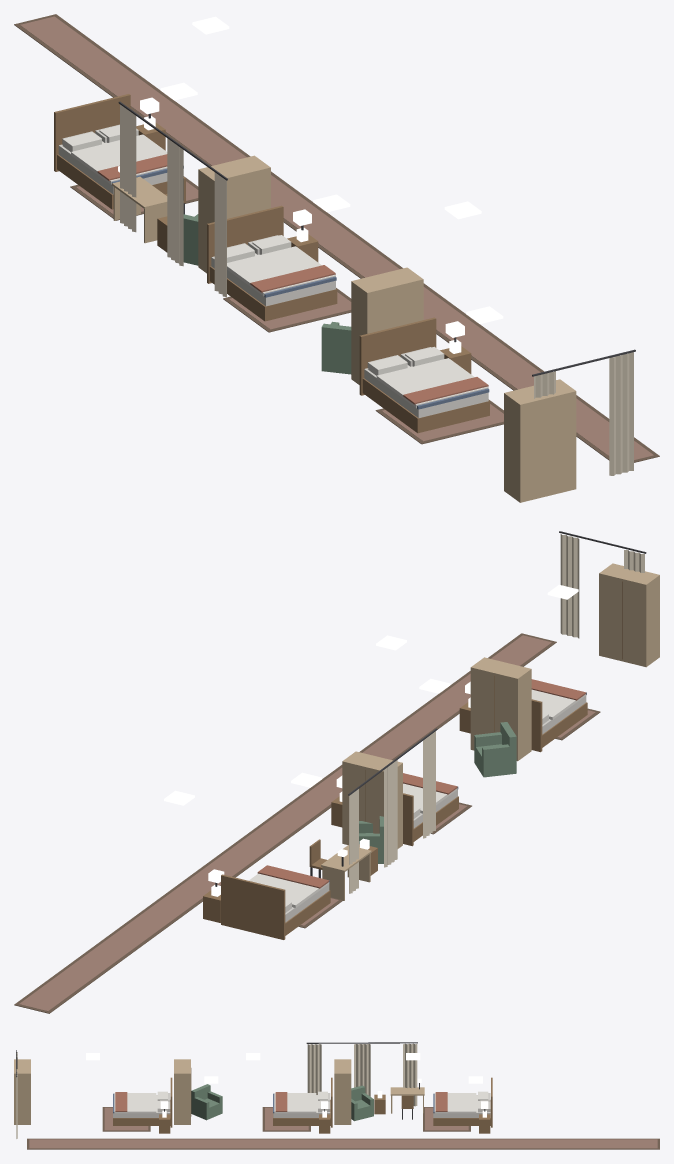
Rendered from fine-s1.glb.
The picture shows the model from 3 angles, top to bottom: view 1: azimuth 30°, elevation 25°; view 2: azimuth 150°, elevation 25°; view 3: azimuth 270°, elevation 25°; orthographic projection. The views are drawn at different scales.
Parts seen in each view (by area): view 1: soft-s1, dresser.002, bed-frame.002, bed-frame.001, dresser.001, bed-frame.000, dresser.000, writing-desk.000, lounge-chair.001, lounge-chair.000; view 2: soft-s1, dresser.002, dresser.001, bed-frame.000, dresser.000, lounge-chair.001, bed-frame.002, writing-desk.000, bed-frame.001; view 3: soft-s1, dresser.000, dresser.001, dresser.002, lounge-chair.001, bed-frame.002, bed-frame.000, bed-frame.001, lounge-chair.000, writing-desk.000, side-table.000, nightstand.001 (+3 smaller).
Part boxes in pixels (x1,y1,x2,y2): soft-s1: (14,14,659,475); dresser.002: (504,379,576,502); bed-frame.002: (359,317,489,433); bed-frame.001: (207,205,337,321); dresser.001: (351,267,423,384); bed-frame.000: (54,94,183,209); dresser.000: (198,155,270,273); writing-desk.000: (112,166,167,243); lounge-chair.001: (321,321,351,374); lounge-chair.000: (183,214,198,265); soft-s1: (14,531,646,1013); dresser.002: (599,563,659,667); dresser.001: (470,657,531,761); bed-frame.000: (221,874,330,939); dresser.000: (342,751,402,848); lounge-chair.001: (474,722,516,777); bed-frame.002: (531,692,587,752); writing-desk.000: (321,845,371,900); bed-frame.001: (403,786,458,846); soft-s1: (16,1042,659,1149); dresser.000: (334,1059,351,1124); dresser.001: (174,1059,191,1124); dresser.002: (14,1059,30,1124); lounge-chair.001: (191,1084,222,1120); bed-frame.002: (113,1077,172,1127); bed-frame.000: (433,1077,492,1127); bed-frame.001: (273,1077,332,1127); lounge-chair.000: (351,1085,373,1121); writing-desk.000: (390,1078,424,1113); side-table.000: (374,1091,385,1114); nightstand.001: (319,1110,330,1133).
Size of the model in its own units: 3.6 by 2.53 by 22.79.
